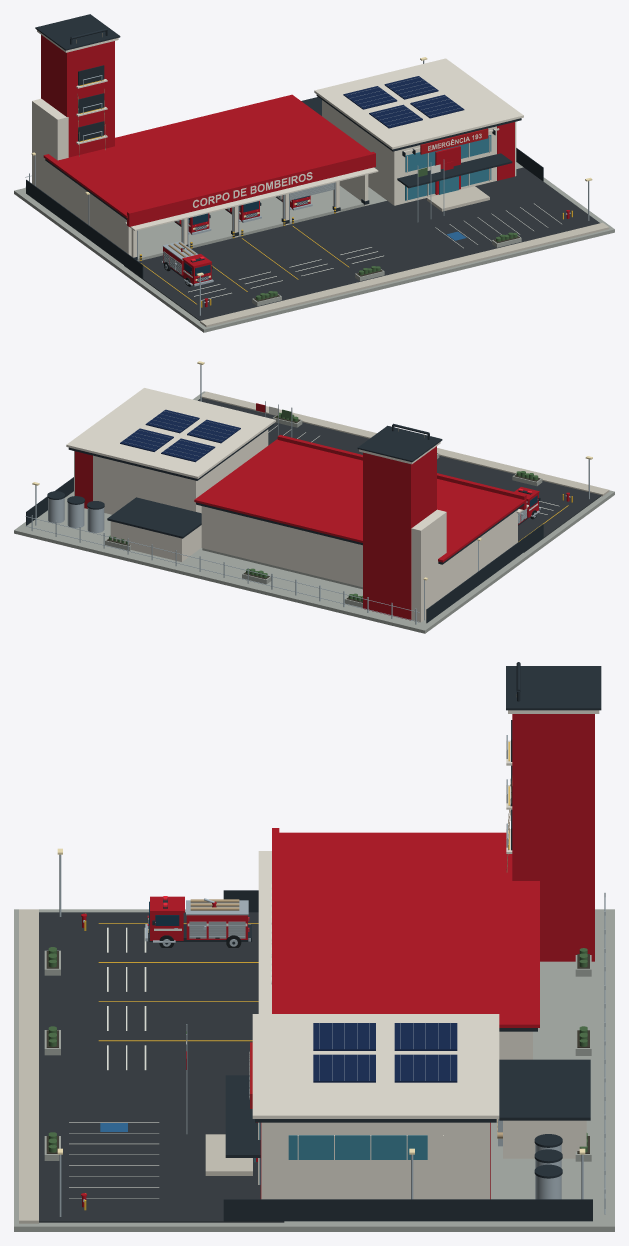
File: base-bombeiros.glb
The picture shows the model from 3 angles, top to bottom: view 1: azimuth 30°, elevation 25°; view 2: azimuth 150°, elevation 25°; view 3: azimuth 270°, elevation 25°; orthographic projection. The views are drawn at different scales.
Parts seen in each view (by area): view 1: static-asphalt-Apron, static-red-GarageRoofRedTrim, static-ivory-AdminCornice, static-red-TrainingTower, static-concrete-Foundation, static-concrete-GarageFloor, static-red-GarageFrontFascia, static-paving-Sidewalk, static-ivory-AdminCore, static-ivory-TowerStairBlock, static-ivory-GarageWestWall, static-charcoal-SideFence-29200 (+14 smaller); view 2: static-red-GarageRoofRedTrim, static-concrete-Foundation, static-red-TrainingTower, static-ivory-AdminCornice, static-ivory-GarageBackWall, static-asphalt-Apron, static-ivory-AdminCore, static-ivory-TowerStairBlock, static-ivory-GarageWestWall, static-paving-Sidewalk, static-charcoal-ServiceShedRoof, static-ivory-ServiceShed (+17 smaller); view 3: static-asphalt-Apron, static-red-GarageRoofRedTrim, static-concrete-Foundation, static-ivory-AdminCornice, static-red-TrainingTower, static-ivory-AdminCore, static-charcoal-SideFence29200, static-paving-Sidewalk, static-charcoal-ServiceShedRoof, static-charcoal-TowerRoof, static-glass-AdminGlassEast, static-ivory-ServiceShed (+10 smaller).
Part boxes in pixels (x1,y1,x2,y2): static-asphalt-Apron: (124,167,599,320); static-red-GarageRoofRedTrim: (43,94,370,217); static-ivory-AdminCornice: (314,58,523,149); static-red-TrainingTower: (41,35,114,157); static-concrete-Foundation: (14,162,614,332); static-concrete-GarageFloor: (137,186,366,261); static-red-GarageFrontFascia: (127,151,375,226); static-paving-Sidewalk: (200,222,609,327); static-ivory-AdminCore: (322,100,516,205); static-ivory-TowerStairBlock: (32,98,68,201); static-ivory-GarageWestWall: (57,170,131,256); static-charcoal-SideFence-29200: (26,179,143,278); static-red-GarageRoofRedTrim: (194,439,525,562); static-concrete-Foundation: (14,391,614,633); static-red-TrainingTower: (363,446,436,620); static-ivory-AdminCornice: (66,388,275,478); static-ivory-GarageBackWall: (201,506,362,587); static-asphalt-Apron: (198,398,601,552); static-ivory-AdminCore: (74,429,268,514); static-ivory-TowerStairBlock: (411,509,446,622); static-ivory-GarageWestWall: (446,510,517,594); static-paving-Sidewalk: (200,391,609,496); static-charcoal-ServiceShedRoof: (107,497,201,538); static-ivory-ServiceShed: (110,521,201,561); static-asphalt-Apron: (39,912,284,1222); static-red-GarageRoofRedTrim: (279,832,539,1027); static-concrete-Foundation: (14,909,614,1231); static-ivory-AdminCornice: (252,1014,499,1118); static-red-TrainingTower: (512,714,594,961); static-ivory-AdminCore: (261,1122,490,1199); static-charcoal-SideFence29200: (223,1199,592,1221); static-paving-Sidewalk: (19,909,38,1223); static-charcoal-ServiceShedRoof: (499,1059,590,1120); static-charcoal-TowerRoof: (506,666,601,710); static-glass-AdminGlassEast: (288,1135,427,1159); static-ivory-ServiceShed: (503,1120,586,1158).
Size of the model in its own units: 60 by 24.06 by 48.
